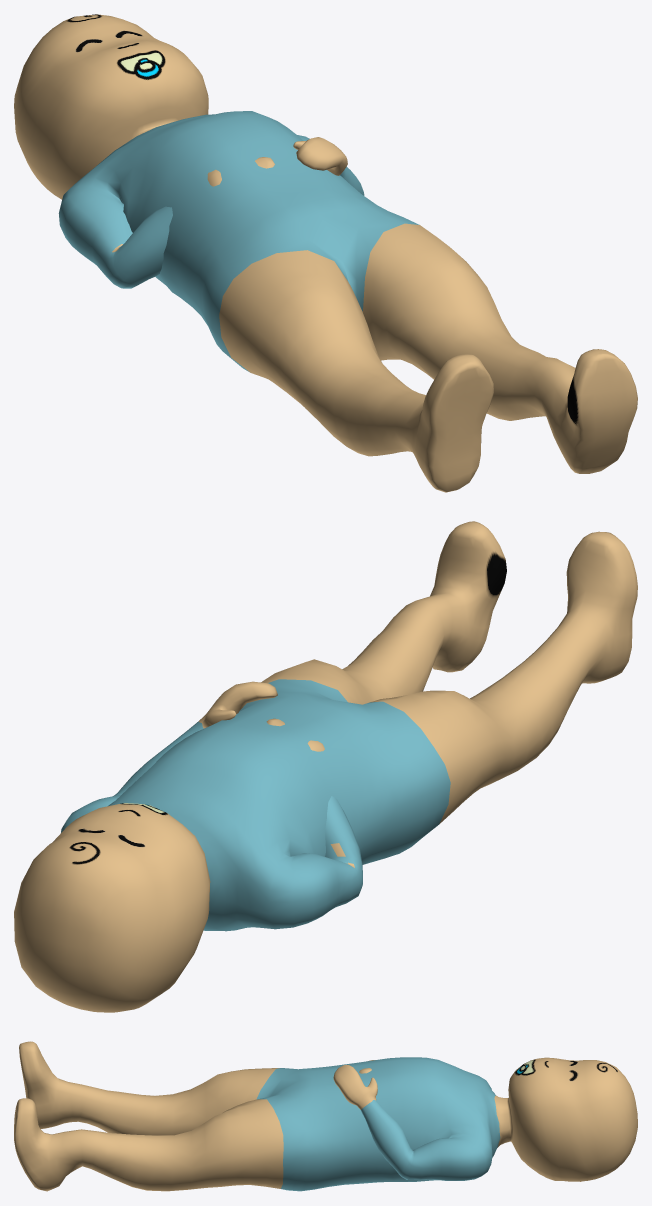
Rendered from baby_separate.fbx.
The picture shows the model from 3 angles, top to bottom: view 1: azimuth 30°, elevation 25°; view 2: azimuth 150°, elevation 25°; view 3: azimuth 270°, elevation 25°; orthographic projection. The views are drawn at different scales.
Parts seen in each view (by area): view 1: earth_char_body; view 2: earth_char_body; view 3: earth_char_body.
Part boxes in pixels (bbox=[...]): earth_char_body: bbox=[14, 14, 637, 492]; earth_char_body: bbox=[14, 521, 637, 1012]; earth_char_body: bbox=[14, 1041, 637, 1191].
Bounding box in the file's own units: 12.25 × 8.56 × 39.58.
Materials: 2 (1 with a texture image).
